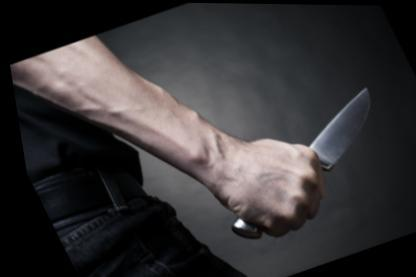knife: (235, 76, 414, 219)
